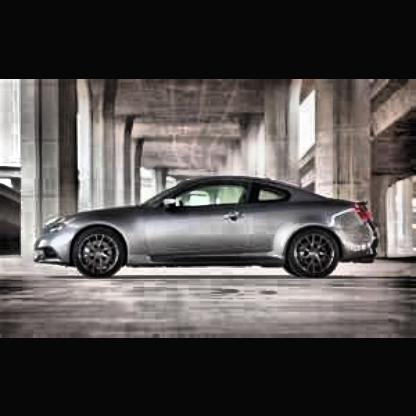Infiniti G Coupe IPL 2012: (36, 173, 385, 278)
